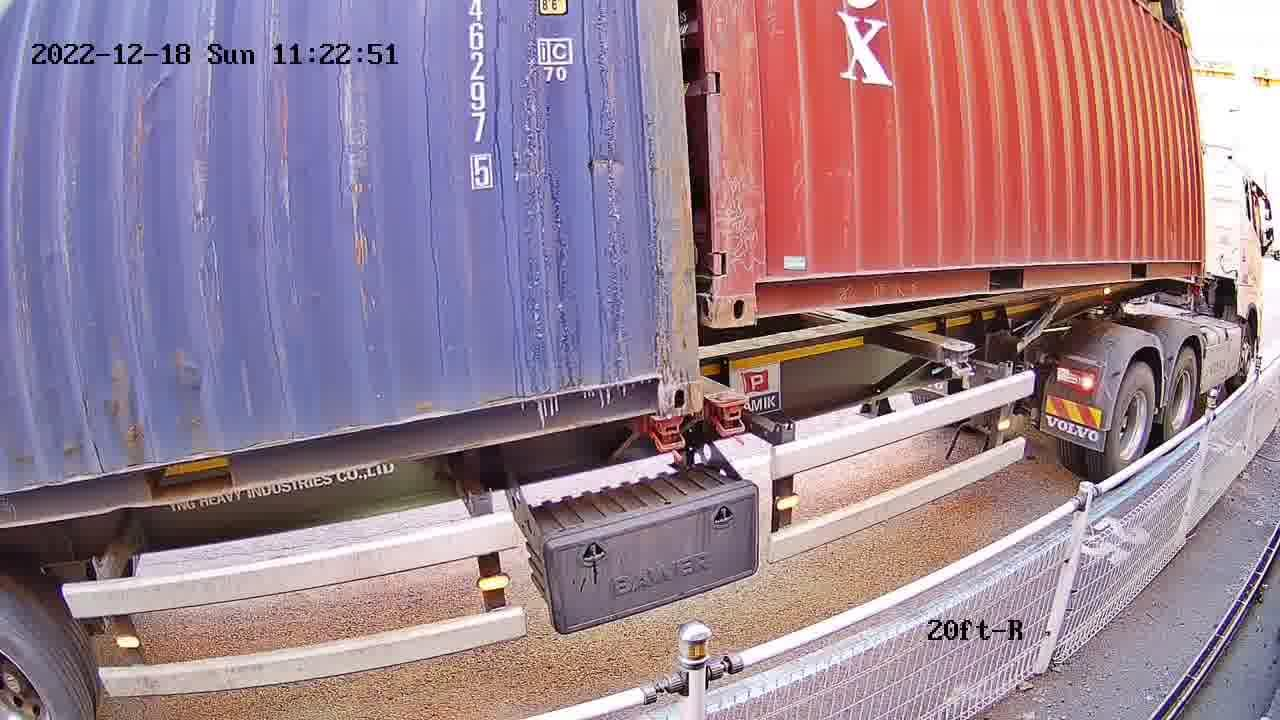Cone: (707, 393, 748, 441), (648, 414, 687, 454)
Hole_L: (717, 255, 793, 329)
Hole_R: (623, 347, 701, 415)
Tire: (1107, 367, 1156, 478), (1165, 350, 1197, 447)
